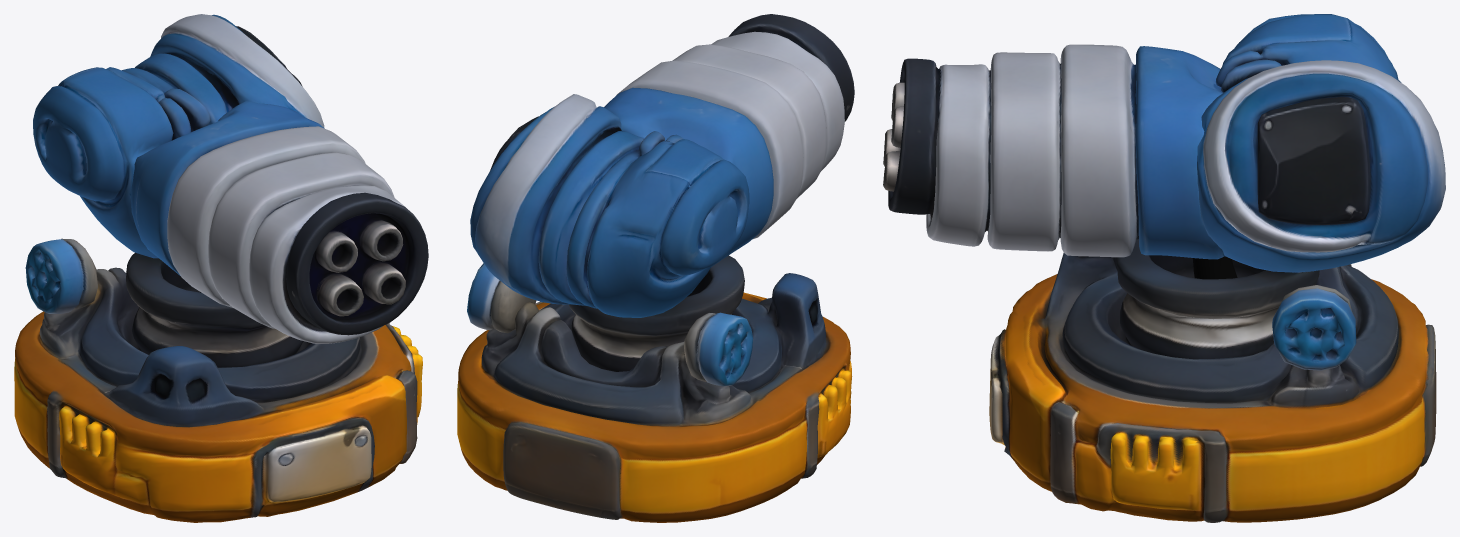
Rendered from machinegun_pbr.glb.
3 views of the same model, side by side, from view 1: azimuth 30°, elevation 25°; view 2: azimuth 150°, elevation 25°; view 3: azimuth 270°, elevation 25° (orthographic). The views are drawn at different scales.
Parts seen in each view (by area): view 1: root.0, root.1, root.2, root.3; view 2: root.0, root.2, root.1, root.5, root.3, root.4; view 3: root.0, root.1, root.2, root.4, root.5.
Part boxes in pixels (bbox=[...]): root.0: bbox=[14, 252, 422, 522]; root.1: bbox=[130, 101, 428, 343]; root.2: bbox=[33, 14, 324, 258]; root.3: bbox=[25, 238, 97, 313]; root.0: bbox=[457, 255, 852, 522]; root.2: bbox=[470, 94, 749, 317]; root.1: bbox=[604, 14, 854, 266]; root.5: bbox=[503, 422, 621, 519]; root.3: bbox=[684, 312, 753, 386]; root.4: bbox=[467, 263, 536, 333]; root.0: bbox=[989, 239, 1428, 522]; root.1: bbox=[883, 44, 1224, 259]; root.2: bbox=[1197, 14, 1445, 272]; root.4: bbox=[1272, 285, 1356, 370]; root.5: bbox=[1420, 324, 1436, 466].
Bounding box in the file's own units: 1.45 × 1.5 × 1.9.
6 materials, 6 textured.
